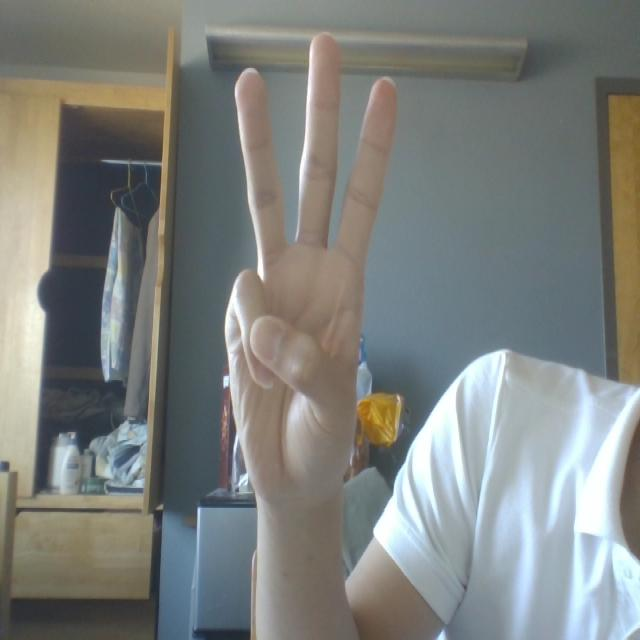W: (173, 10, 412, 544)
